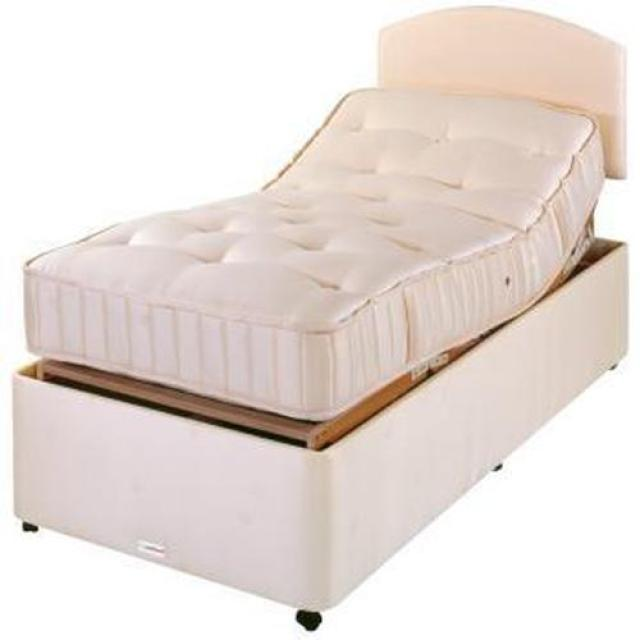bed: (14, 86, 627, 617)
